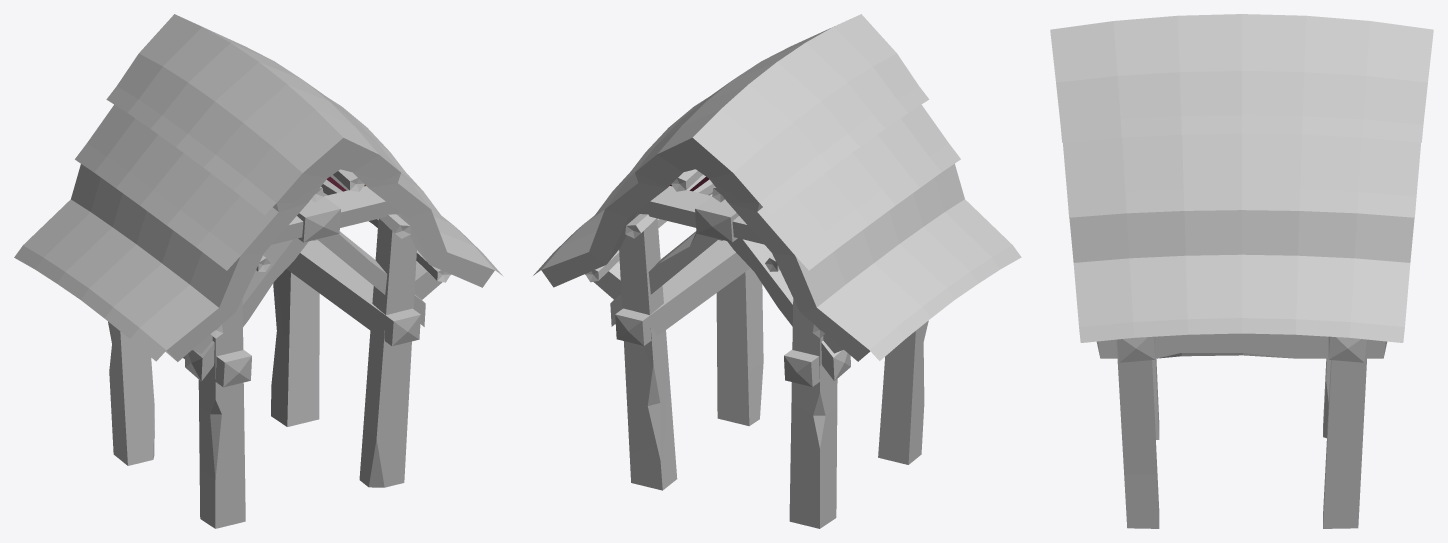
The model's file is SM_Bld_Roof_Thatch_Preset_S_02.fbx.
The picture shows the model from 3 angles, left to right: view 1: azimuth 30°, elevation 25°; view 2: azimuth 150°, elevation 25°; view 3: azimuth 270°, elevation 25°; orthographic projection. The views are drawn at different scales.
Parts seen in each view (by area): view 1: SM_Bld_Roof_Thatch_Preset_S_02; view 2: SM_Bld_Roof_Thatch_Preset_S_02; view 3: SM_Bld_Roof_Thatch_Preset_S_02.
Part boxes in pixels (left/top/right/bottom): SM_Bld_Roof_Thatch_Preset_S_02: left=14, top=14, right=503, bottom=528; SM_Bld_Roof_Thatch_Preset_S_02: left=533, top=14, right=1021, bottom=528; SM_Bld_Roof_Thatch_Preset_S_02: left=1050, top=14, right=1433, bottom=528.
Size of the model in its own units: 617 by 679 by 507.
